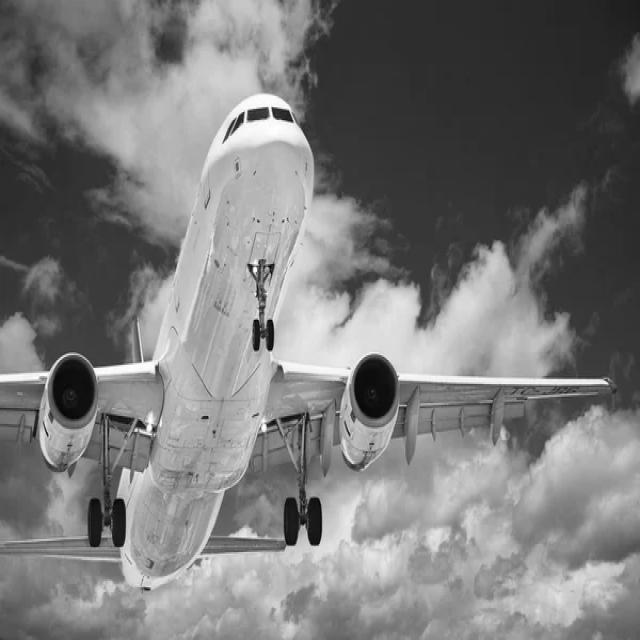Aircraft: (4, 62, 616, 581)
